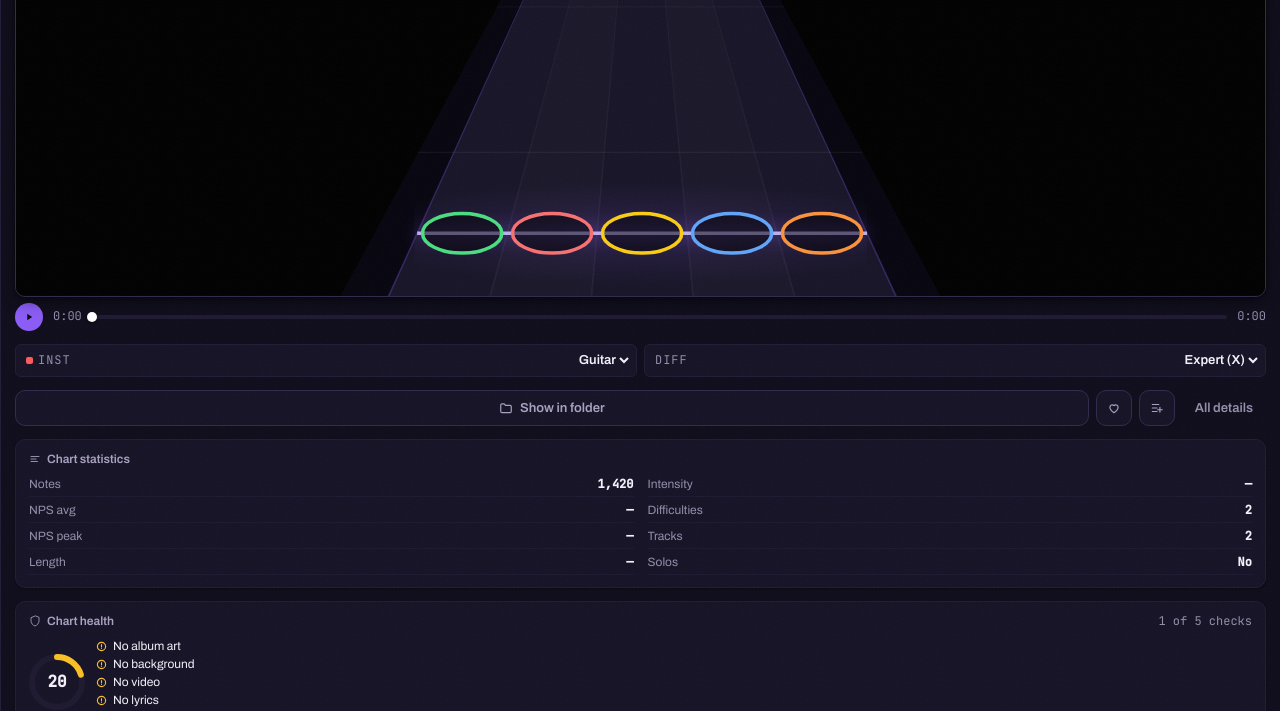
Test: Rail: what the selected track is made of › flags a double pedal only while drums is the selected instrument
(page scrolled)
Expected: the text "2X KICK" is not shown
Select "Drums" in the dropdown labelled "INST": (355, 360) [78, 352, 632, 368]
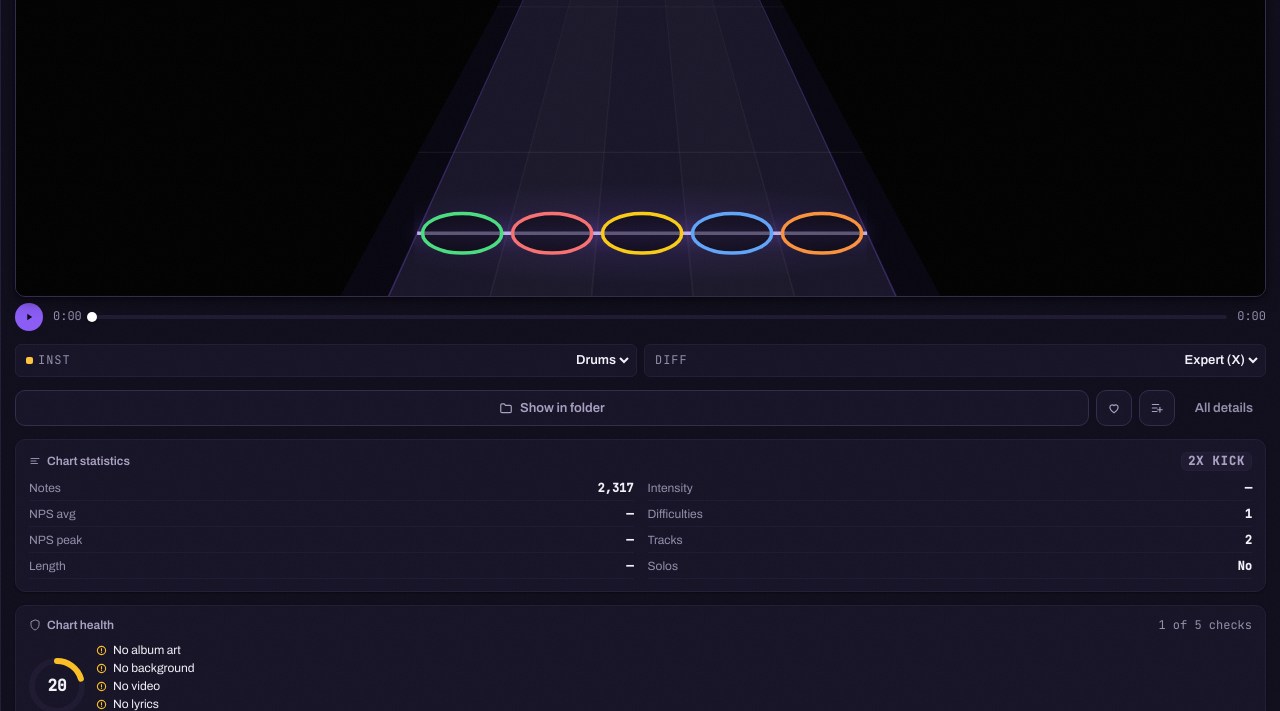
Expected: the text "2X KICK" is shown, [1181, 452, 1252, 471]
